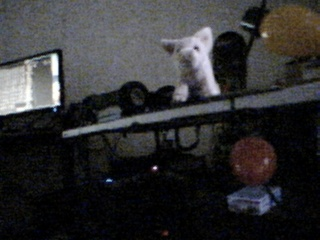piggy: (159, 25, 222, 103)
